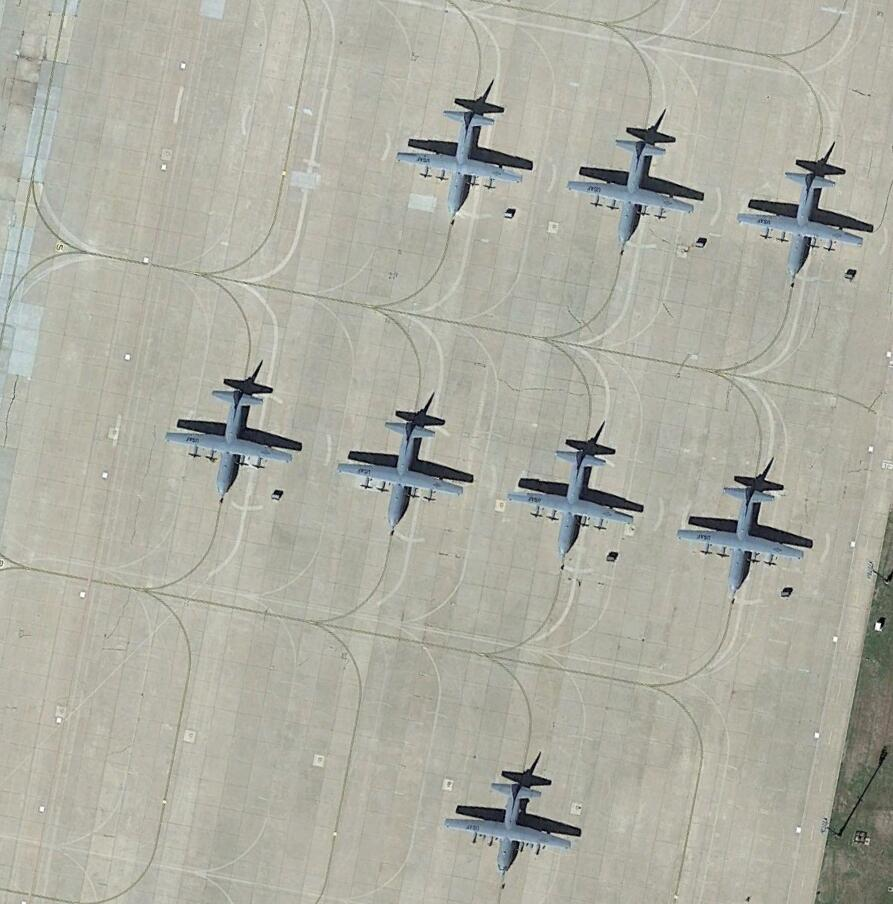A2: (567, 102, 710, 246), (676, 456, 820, 597), (392, 77, 537, 215), (509, 416, 649, 558), (161, 356, 304, 495), (334, 388, 477, 527), (735, 138, 876, 277), (442, 749, 585, 879)
